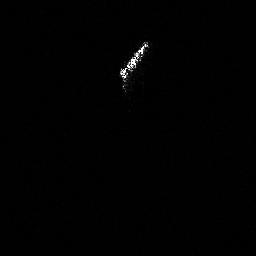ship: (118, 39, 151, 93)
